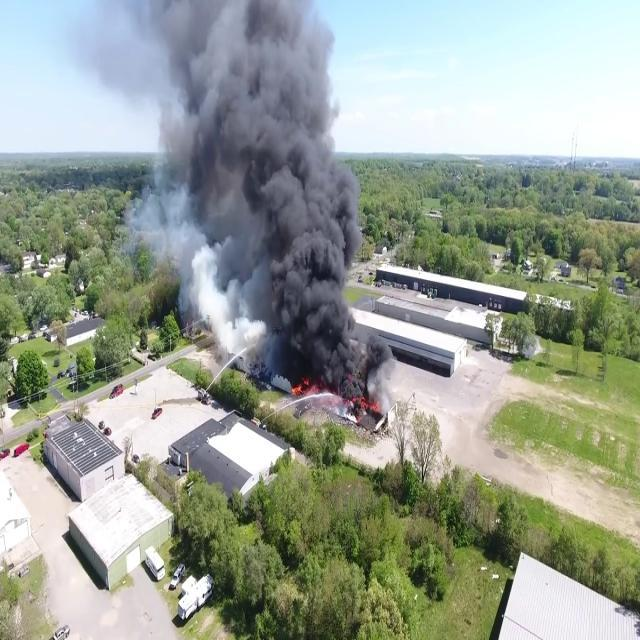Smoke: (66, 0, 396, 418)
